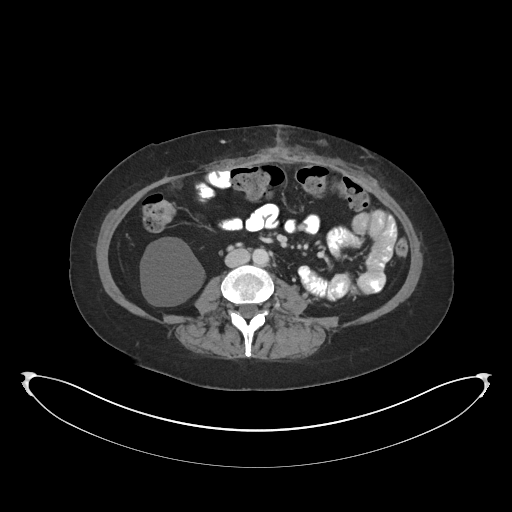Lesion: (136, 235, 209, 309)
